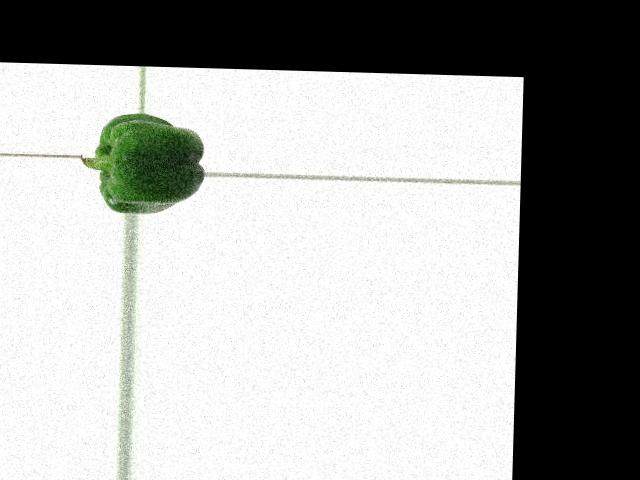bell_pepper: (81, 112, 206, 213)
